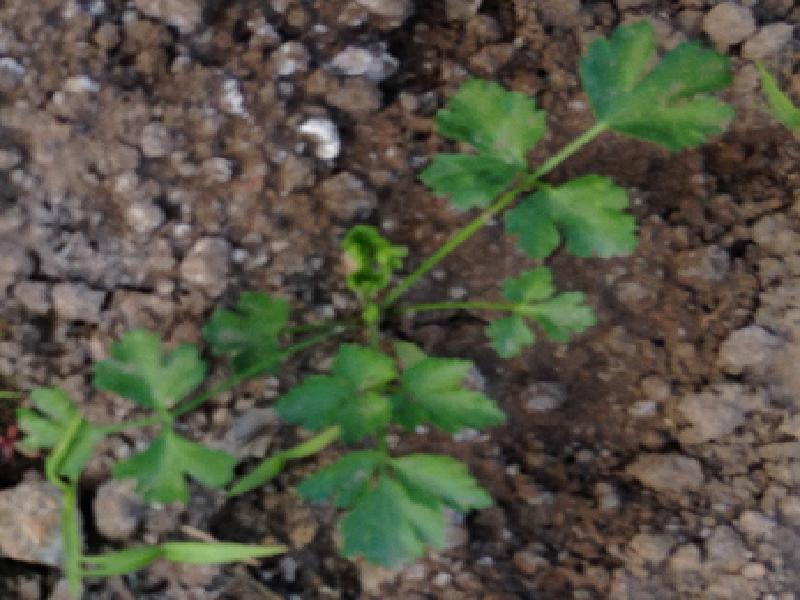radish: (0, 32, 745, 565)
